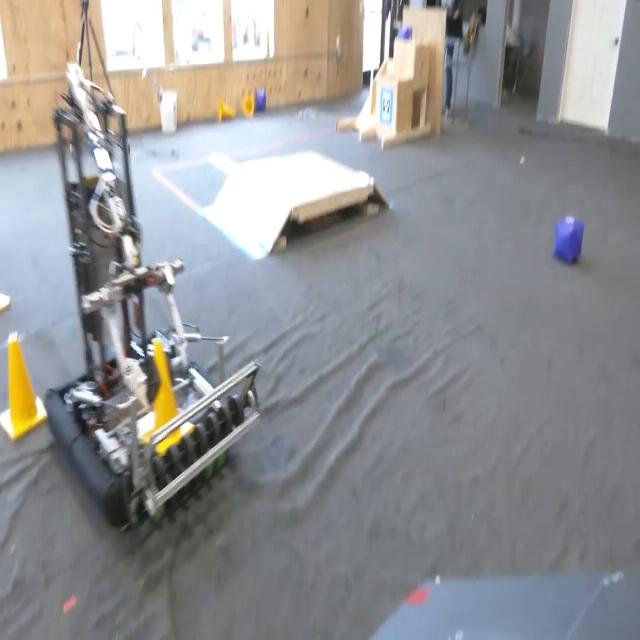frc_cone: (143, 324, 185, 460), (0, 334, 40, 446), (241, 92, 253, 124), (215, 106, 235, 122)
frc_cube: (554, 212, 584, 271), (395, 22, 413, 54), (254, 87, 269, 120)
